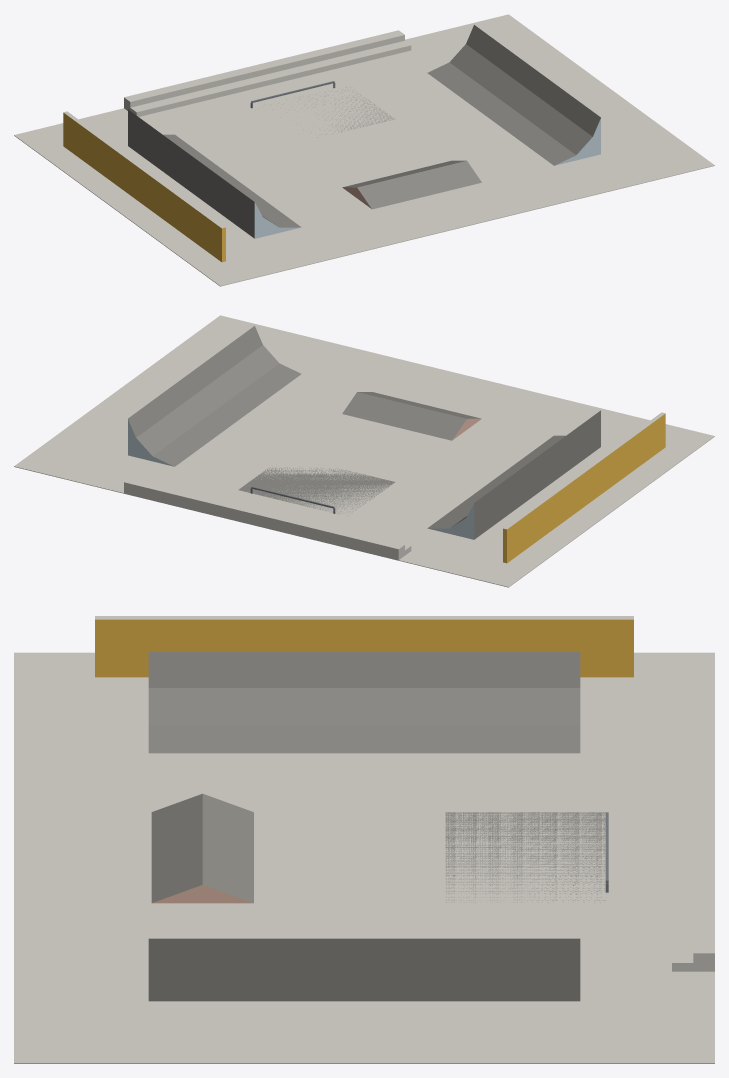
Rendered from skatepark_bowl.glb.
3 renders of one model, top to bottom at view 1: azimuth 30°, elevation 25°; view 2: azimuth 150°, elevation 25°; view 3: azimuth 270°, elevation 25°, orthographic. The views are drawn at different scales.
Visible parts, largest first — view 1: skatepark_bowl; view 2: skatepark_bowl; view 3: skatepark_bowl.
Boxes of the visible parts, left/top/right/bottom form: skatepark_bowl: left=14, top=14, right=714, bottom=286; skatepark_bowl: left=14, top=315, right=714, bottom=587; skatepark_bowl: left=14, top=616, right=714, bottom=1063.
Size of the model in its own units: 36 by 2.6 by 26.
Materials: 1 (1 with a texture image).
